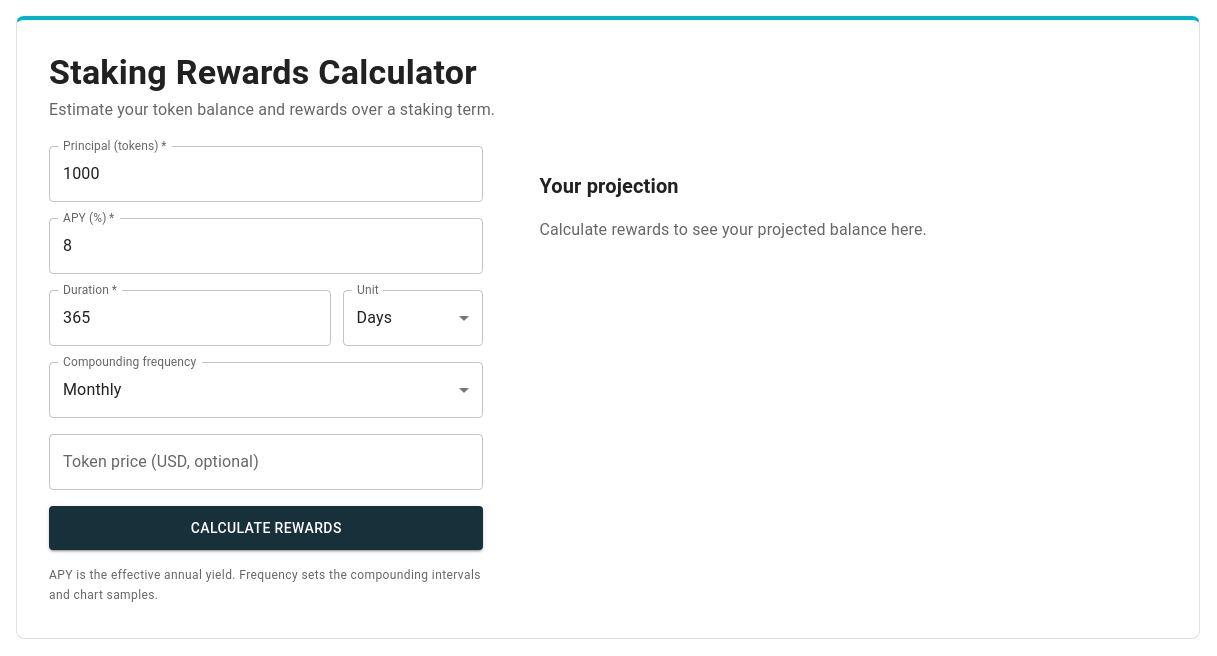
shows a recoverable error when the API is unavailable
Click the button "Calculate rewards" at (266, 528), box top-left (49, 506), bottom-right (483, 550)
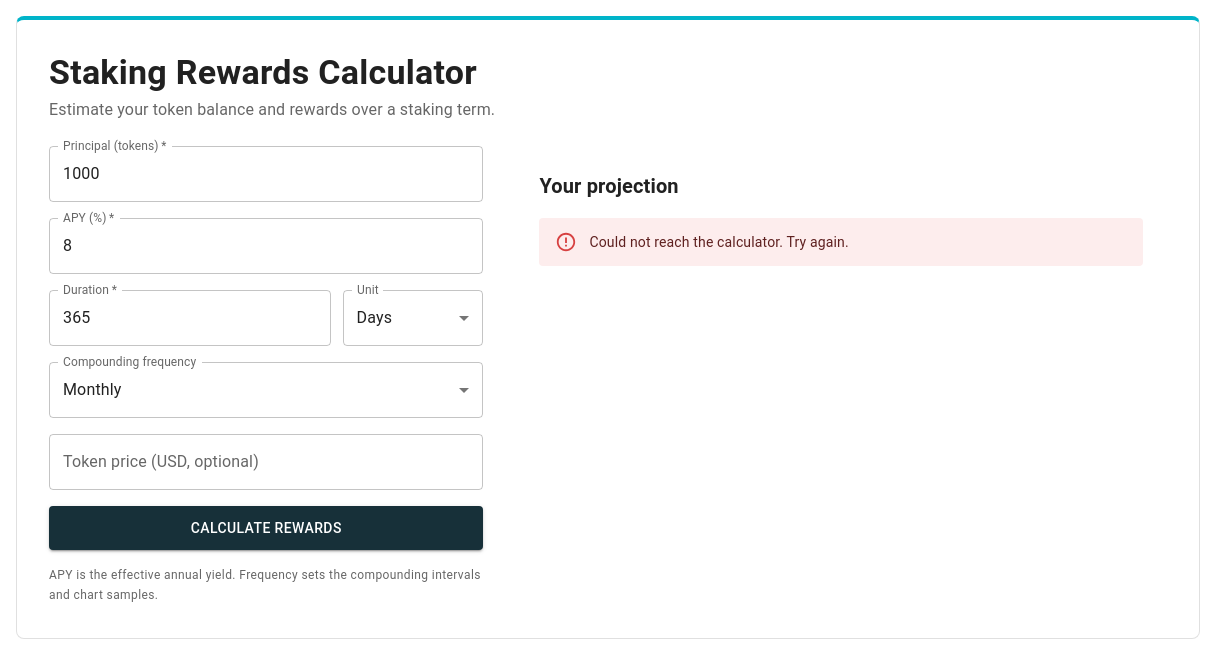
Expected: the message shows "Could not reach the calculator.", top-left (589, 234), bottom-right (849, 250)
